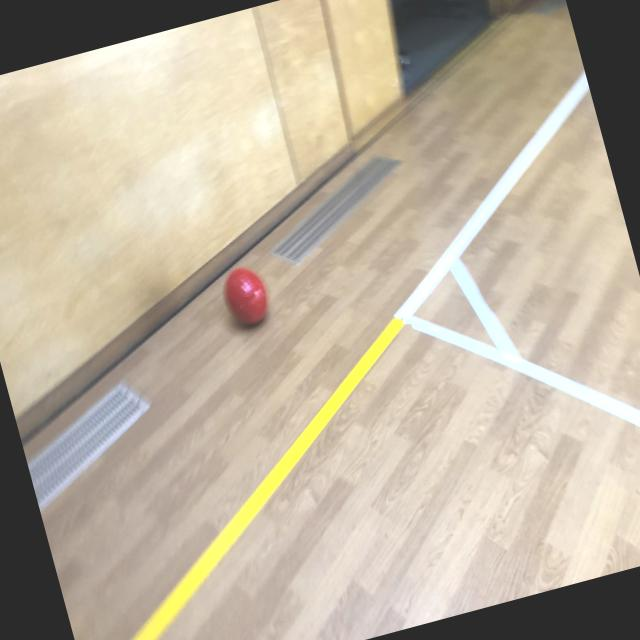red_ball: (217, 262, 272, 328)
